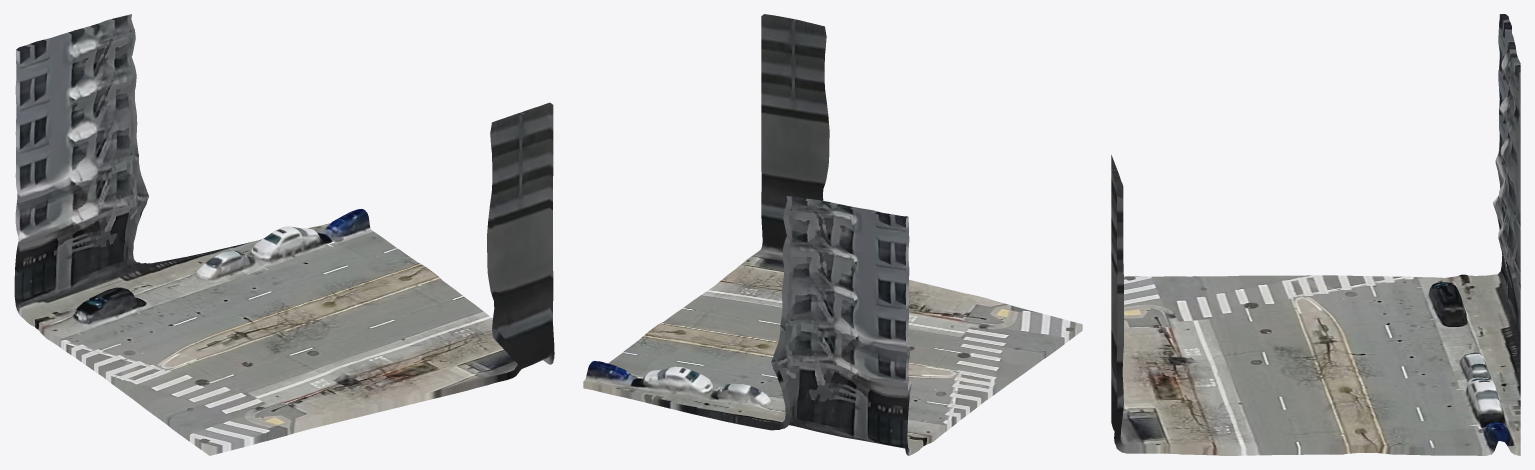
File: z20-167782-405226-h0-yup-uvflip-v3-world.glb
3 renders of one model, left to right at view 1: azimuth 30°, elevation 25°; view 2: azimuth 150°, elevation 25°; view 3: azimuth 270°, elevation 25°, orthographic. The views are drawn at different scales.
Bounding box in the file's own units: 30.16 × 22.2 × 30.32.
1 material, 1 textured.
